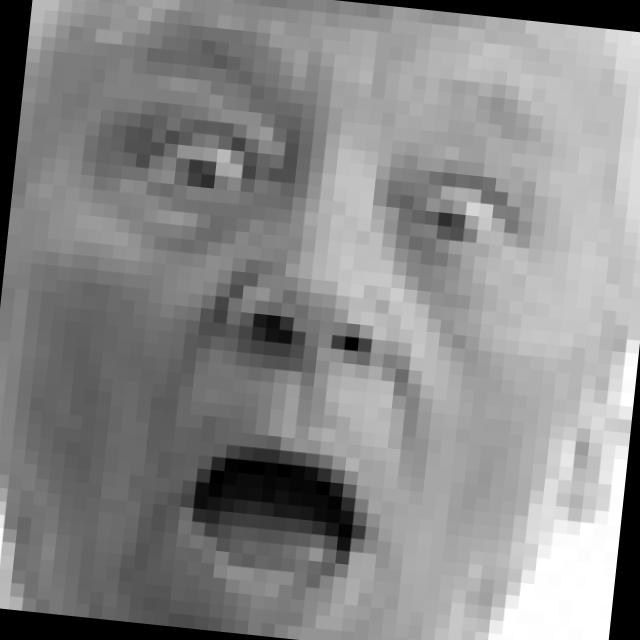surprise: (61, 34, 564, 617)
